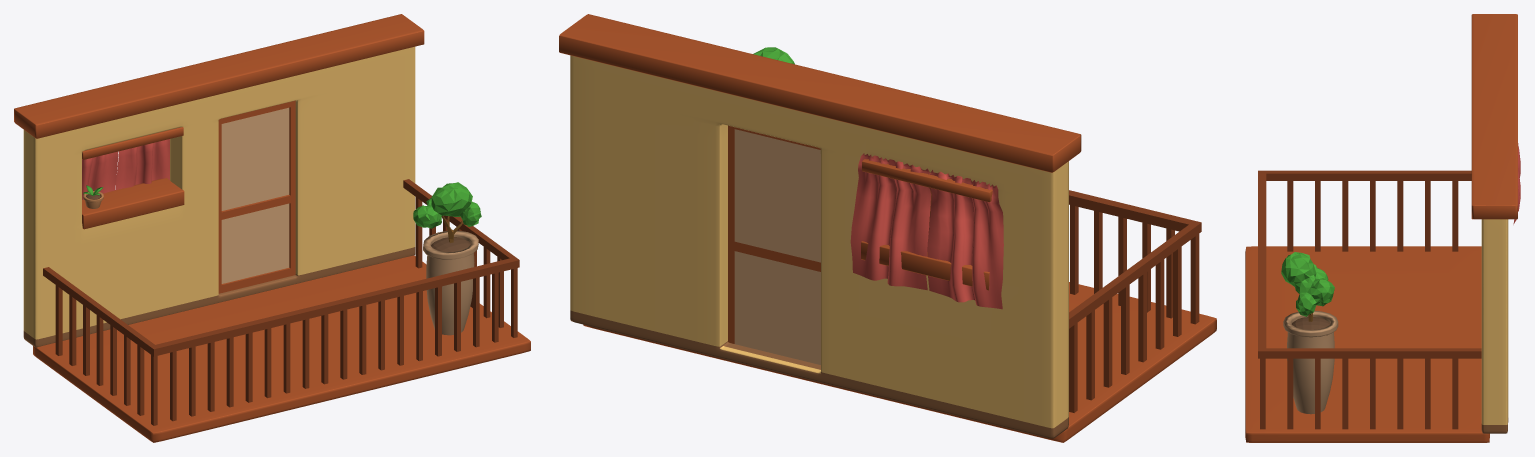
Rendered from Balcon.fbx.
3 views of the same model, side by side, from view 1: azimuth 30°, elevation 25°; view 2: azimuth 150°, elevation 25°; view 3: azimuth 270°, elevation 25° (orthographic). The views are drawn at different scales.
Visible parts, largest first — view 1: Cube.194, Cube.195, Cube.193, Cube.196, Cube.200, Cube.199, Cube.201, Plane.051, Cube.197, Cube.202, Plane.049, Plane.048 (+1 smaller); view 2: Cube.194, Cube.193, Cube.196, Cube.195, Plane.048, Plane.049, Cube.201, Cube.199, Cube.200, Cube.198, Cube.197; view 3: Cube.195, Cube.193, Cube.201, Cube.199, Cube.194, Plane.051, Cube.202, Cube.200.
Boxes of the visible parts, bbox=[...] form: Cube.194: bbox=[23, 46, 415, 347]; Cube.195: bbox=[33, 255, 530, 442]; Cube.193: bbox=[14, 14, 424, 138]; Cube.196: bbox=[218, 100, 295, 293]; Cube.200: bbox=[151, 268, 517, 425]; Cube.199: bbox=[43, 179, 519, 356]; Cube.201: bbox=[55, 197, 503, 415]; Plane.051: bbox=[423, 230, 478, 335]; Cube.197: bbox=[82, 178, 184, 229]; Cube.202: bbox=[413, 182, 481, 242]; Plane.049: bbox=[116, 139, 169, 190]; Plane.048: bbox=[82, 151, 118, 199]; Cube.194: bbox=[570, 55, 1068, 438]; Cube.193: bbox=[559, 14, 1081, 172]; Cube.196: bbox=[728, 125, 820, 364]; Cube.195: bbox=[583, 282, 1216, 442]; Plane.048: bbox=[927, 170, 1003, 309]; Plane.049: bbox=[850, 153, 931, 290]; Cube.201: bbox=[1069, 246, 1181, 412]; Cube.199: bbox=[1069, 190, 1201, 328]; Cube.200: bbox=[928, 188, 1199, 324]; Cube.198: bbox=[862, 159, 992, 202]; Cube.197: bbox=[861, 241, 989, 290]; Cube.195: bbox=[1245, 246, 1489, 442]; Cube.193: bbox=[1471, 14, 1517, 219]; Cube.201: bbox=[1287, 181, 1458, 429]; Cube.199: bbox=[1258, 170, 1481, 358]; Cube.194: bbox=[1481, 219, 1508, 433]; Plane.051: bbox=[1283, 310, 1338, 414]; Cube.202: bbox=[1281, 252, 1334, 321]; Cube.200: bbox=[1260, 358, 1265, 429].
Size of the model in its own units: 2008 by 1176 by 1220.
